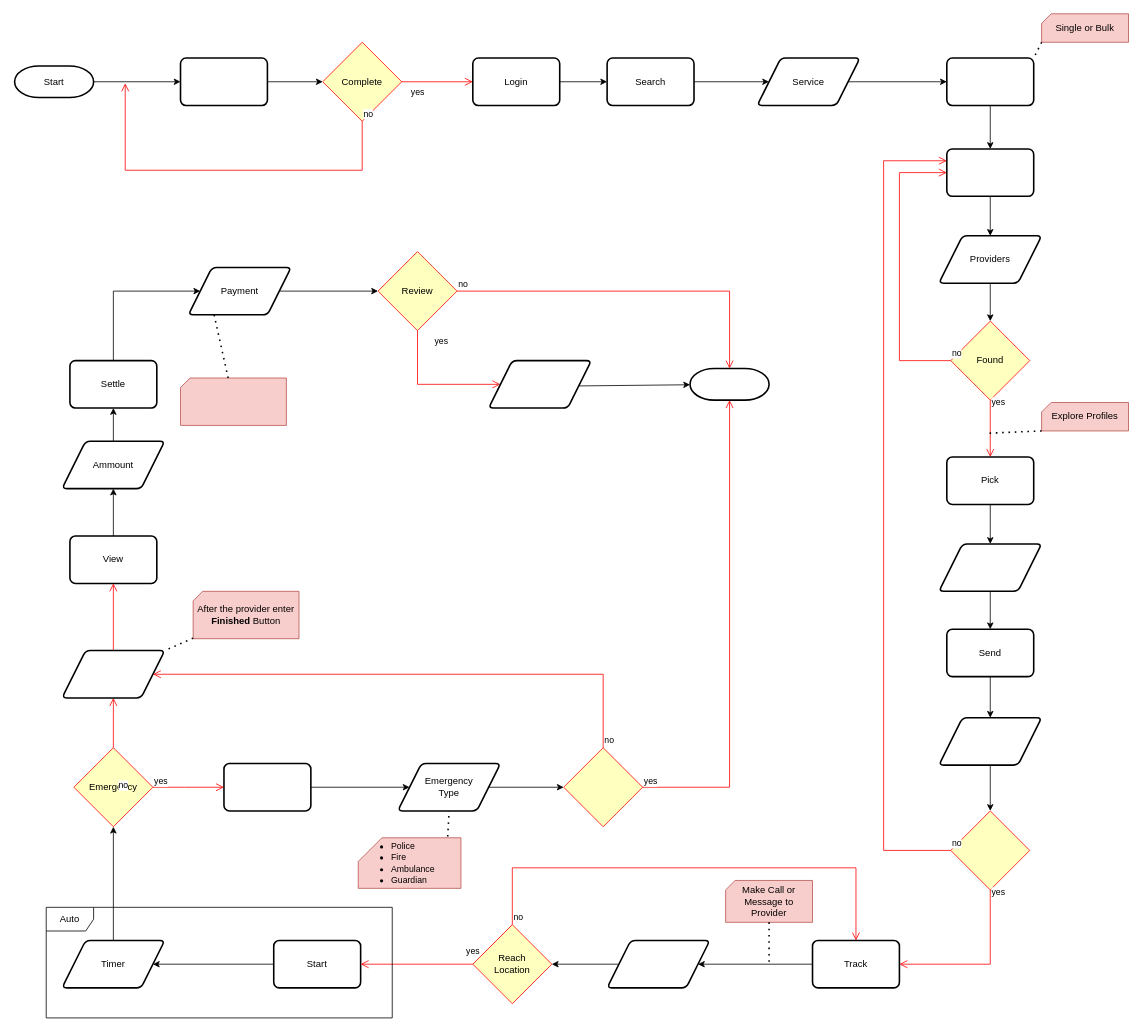
Some shapes in this 1142 by 1032 pixel diagram are drawn without their labels. The box of each missing label's shape, as (x1, y1, x2, y2) in pixels:
Cencel: (563, 747, 643, 827)
End: (689, 367, 769, 401)
Find: (946, 148, 1034, 197)
If Provider Accepted: (950, 810, 1030, 890)
Location: (606, 939, 710, 988)
Provider: (938, 543, 1042, 592)
Rate and Review: (487, 359, 592, 408)
Register: (179, 57, 268, 106)
Request Form: (938, 717, 1042, 766)
Select: (223, 762, 311, 811)
Select the payment method: (180, 377, 286, 425)
Select the Services: (946, 57, 1034, 106)
Timer Stopped: (61, 649, 165, 698)
